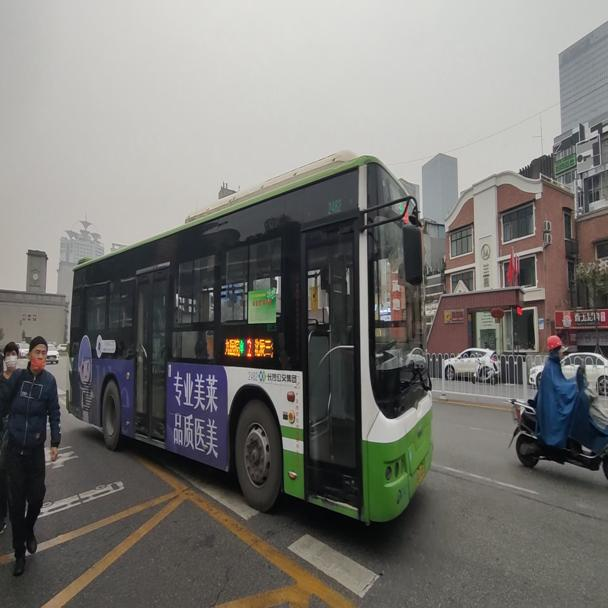bus: (66, 153, 428, 517)
screen: (243, 333, 253, 360)
